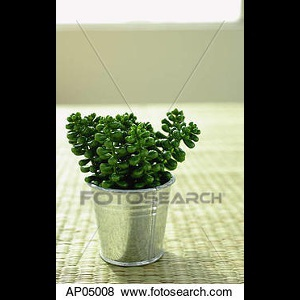flowerpot: (85, 169, 175, 266)
